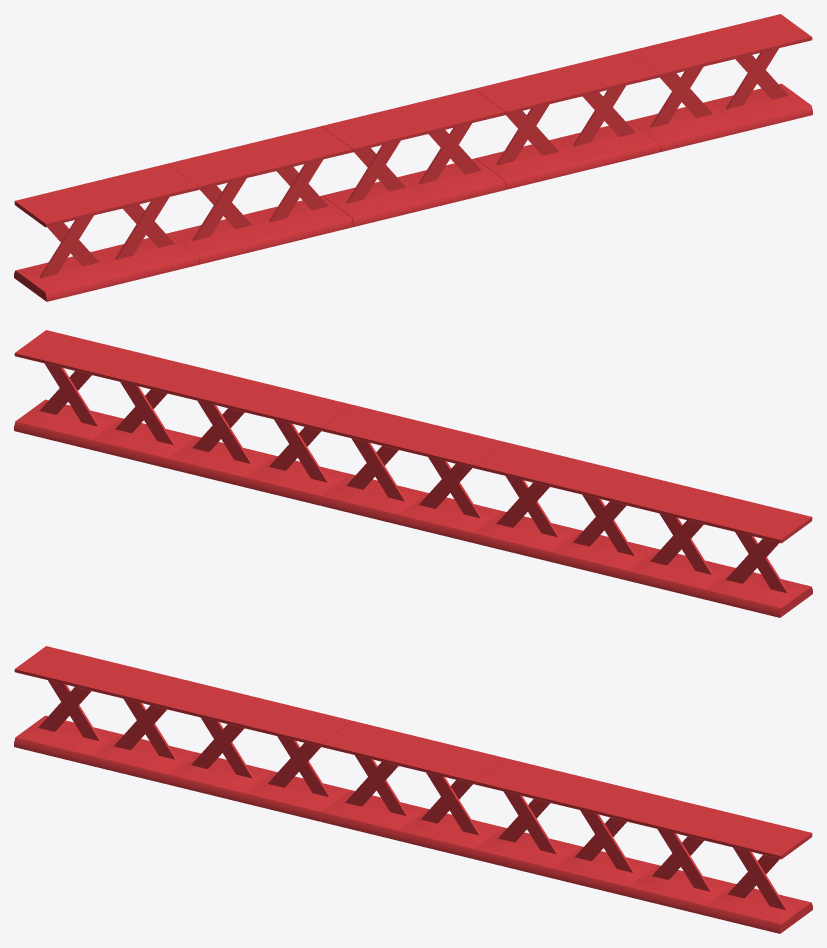
File: barre usine.fbx
The picture shows the model from 3 angles, top to bottom: view 1: azimuth 30°, elevation 25°; view 2: azimuth 150°, elevation 25°; view 3: azimuth 330°, elevation 25°; orthographic projection.
Parts seen in each view (by area): view 1: barre; view 2: barre; view 3: barre.
Part boxes in pixels (x1=…): barre: x1=14, y1=14, x2=812, y2=301; barre: x1=14, y1=330, x2=812, y2=617; barre: x1=14, y1=646, x2=812, y2=933.
Bounding box in the file's own units: 2278 × 220 × 169.
